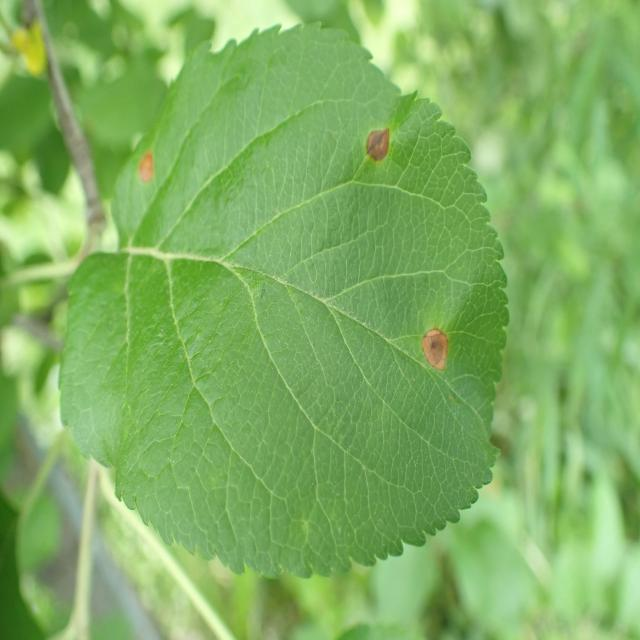Black Rot: (404, 308, 456, 388), (356, 102, 400, 184), (128, 136, 174, 206)
